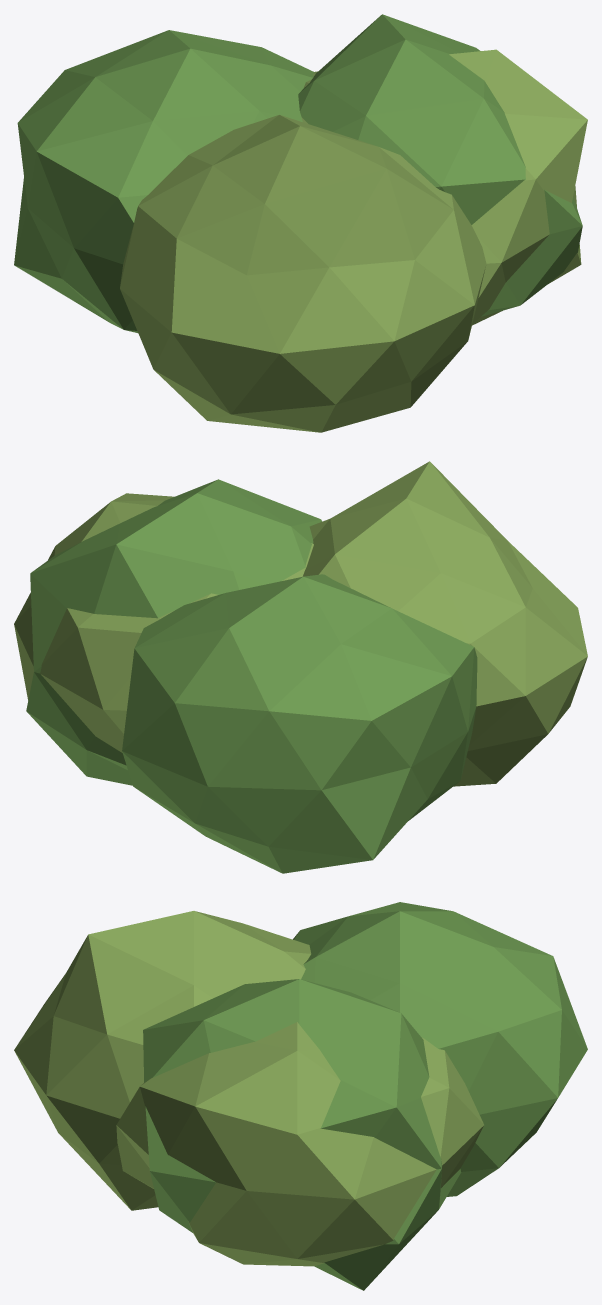
Rendered from bush.glb.
3 renders of one model, top to bottom at view 1: azimuth 30°, elevation 25°; view 2: azimuth 150°, elevation 25°; view 3: azimuth 270°, elevation 25°, orthographic. The views are drawn at different scales.
Parts seen in each view (by area): view 1: Bush; view 2: Bush; view 3: Bush.
Boxes of the visible parts, x1,y1,x2,y2 form: Bush: [14, 14, 587, 432]; Bush: [14, 461, 587, 873]; Bush: [14, 902, 587, 1290].
Bounding box in the file's own units: 2.66 × 1.55 × 2.9.
